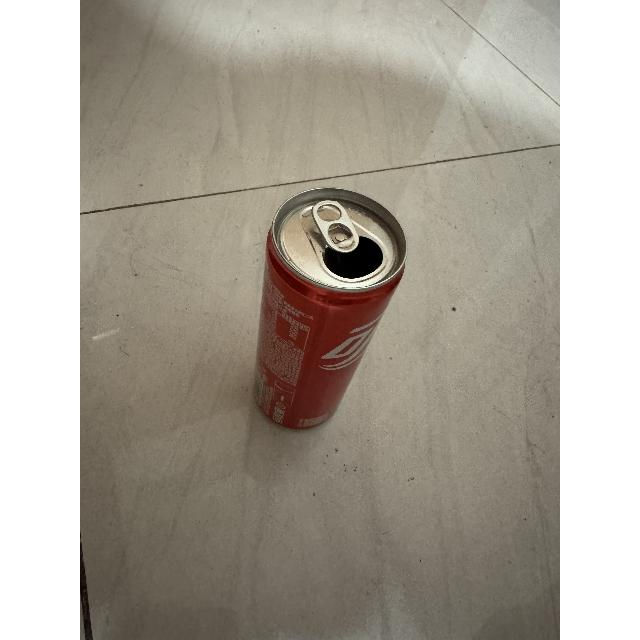coca-cola: (251, 180, 411, 440)
